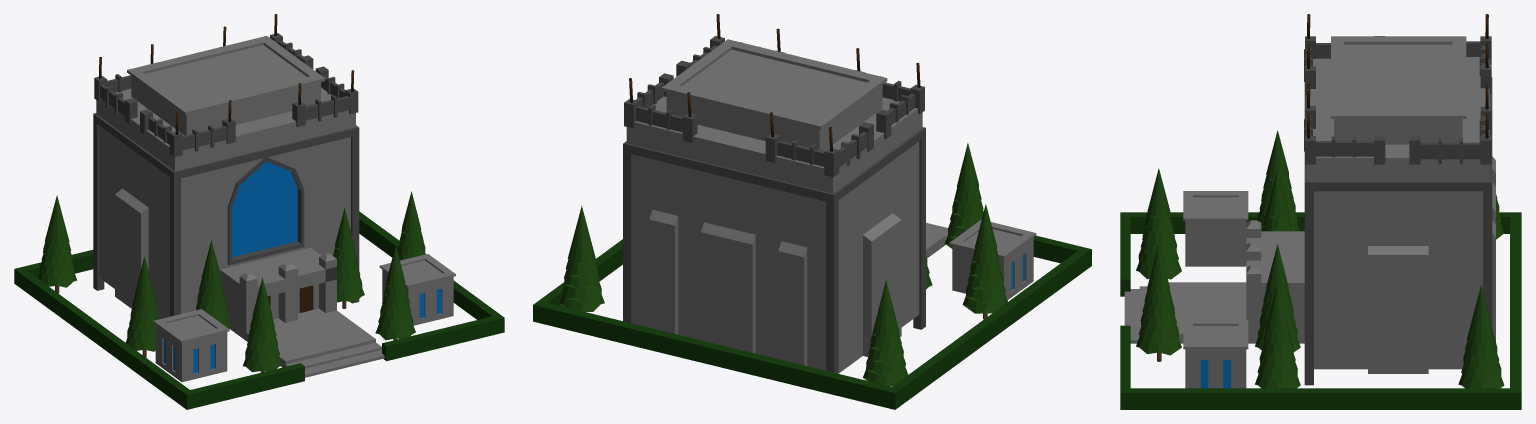
File: LibraryFinal.fbx
3 renders of one model, left to right at view 1: azimuth 30°, elevation 25°; view 2: azimuth 150°, elevation 25°; view 3: azimuth 270°, elevation 25°, orthographic. The views are drawn at different scales.
Visible parts, largest first — view 1: Plane.029; view 2: Plane.029; view 3: Plane.029.
Boxes of the visible parts, bbox=[...] form: Plane.029: bbox=[14, 14, 504, 409]; Plane.029: bbox=[533, 14, 1091, 409]; Plane.029: bbox=[1120, 14, 1521, 409].
Size of the model in its own units: 87.69 by 60.89 by 82.5.
